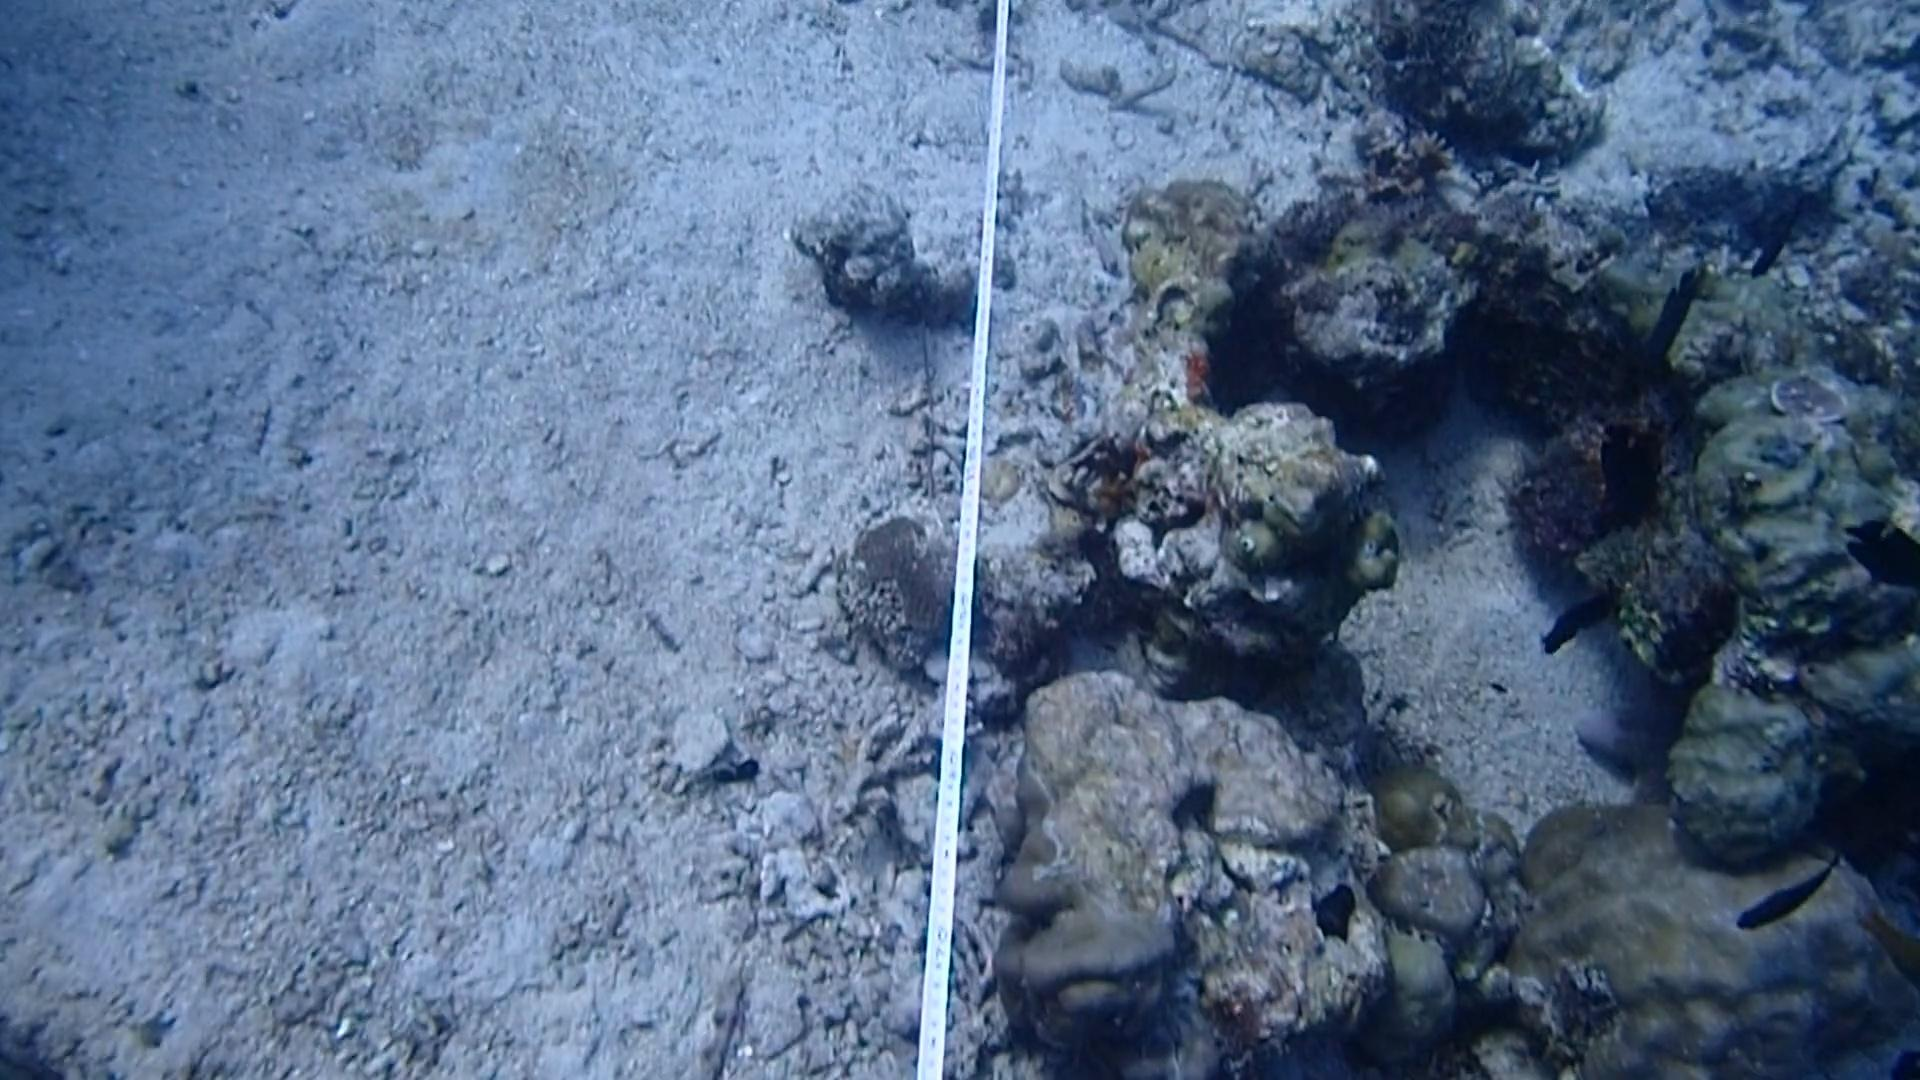Dark Fish: (1735, 841, 1845, 948), (1585, 400, 1675, 529), (1821, 497, 1920, 601), (1633, 257, 1721, 367), (1526, 574, 1635, 661), (1747, 182, 1815, 294)
Half Blue - Half Yellow: (1851, 902, 1920, 990)
